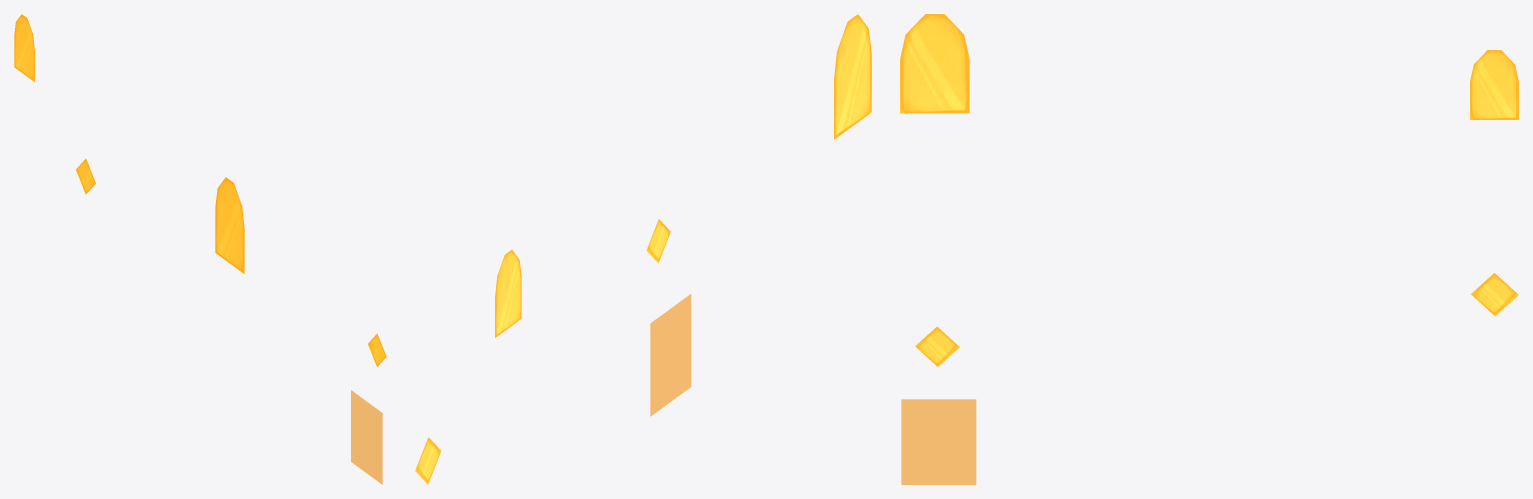
The model's file is glowing-transformed.glb.
The picture shows the model from 3 angles, left to right: view 1: azimuth 30°, elevation 25°; view 2: azimuth 150°, elevation 25°; view 3: azimuth 270°, elevation 25°; orthographic projection. The views are drawn at different scales.
Parts seen in each view (by area): view 1: obj_house_1_material_window_and_steel_0.331, obj_house_1_material_planks_0.2262; view 2: obj_house_1_material_window_and_steel_0.331, obj_house_1_material_planks_0.2262; view 3: obj_house_1_material_window_and_steel_0.331, obj_house_1_material_planks_0.2262.
Part boxes in pixels (x1,y1,x2,y2): obj_house_1_material_window_and_steel_0.331: [14, 14, 386, 366]; obj_house_1_material_planks_0.2262: [351, 390, 382, 484]; obj_house_1_material_window_and_steel_0.331: [415, 14, 871, 484]; obj_house_1_material_planks_0.2262: [650, 294, 691, 416]; obj_house_1_material_window_and_steel_0.331: [900, 14, 1518, 366]; obj_house_1_material_planks_0.2262: [901, 399, 976, 484].
Bounding box in the file's own units: 4.25 × 9 × 12.92.
Materials: 2 (1 with a texture image).
